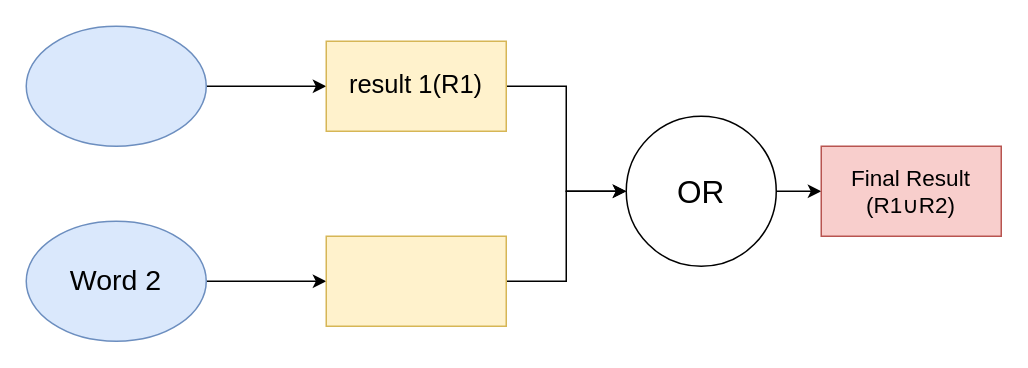
Image size: 1028x368. Some labels were removed from this diagram. The shapes that lost their labels are listed below. From the top down, each one's centre as x and y in pixels, then its label:
At [115,85]: "Word 1".
At [415,280]: "result 2(R2)".
